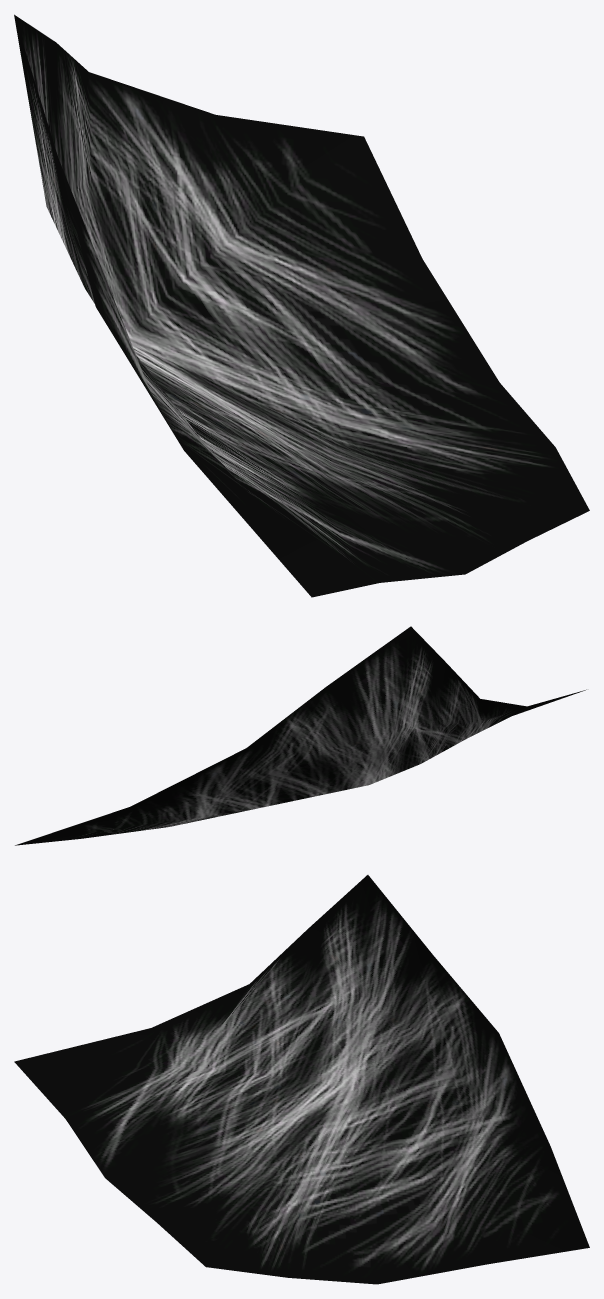
The model's file is SWORDLIGHT20_PS-AREA01_CORNERWEB11.fbx.
The picture shows the model from 3 angles, top to bottom: view 1: azimuth 30°, elevation 25°; view 2: azimuth 150°, elevation 25°; view 3: azimuth 270°, elevation 25°; orthographic projection. The views are drawn at different scales.
Visible parts, largest first — view 1: SWORDLIGHT20_PS-AREA01_CORNERWEB11; view 2: SWORDLIGHT20_PS-AREA01_CORNERWEB11; view 3: SWORDLIGHT20_PS-AREA01_CORNERWEB11.
Boxes of the visible parts, left/top/right/bottom form: SWORDLIGHT20_PS-AREA01_CORNERWEB11: left=14, top=14, right=589, bottom=597; SWORDLIGHT20_PS-AREA01_CORNERWEB11: left=15, top=626, right=586, bottom=845; SWORDLIGHT20_PS-AREA01_CORNERWEB11: left=14, top=875, right=589, bottom=1284.
Bounding box in the file's own units: 58006 × 47780 × 90477.
Materials: 1 (1 with a texture image).
